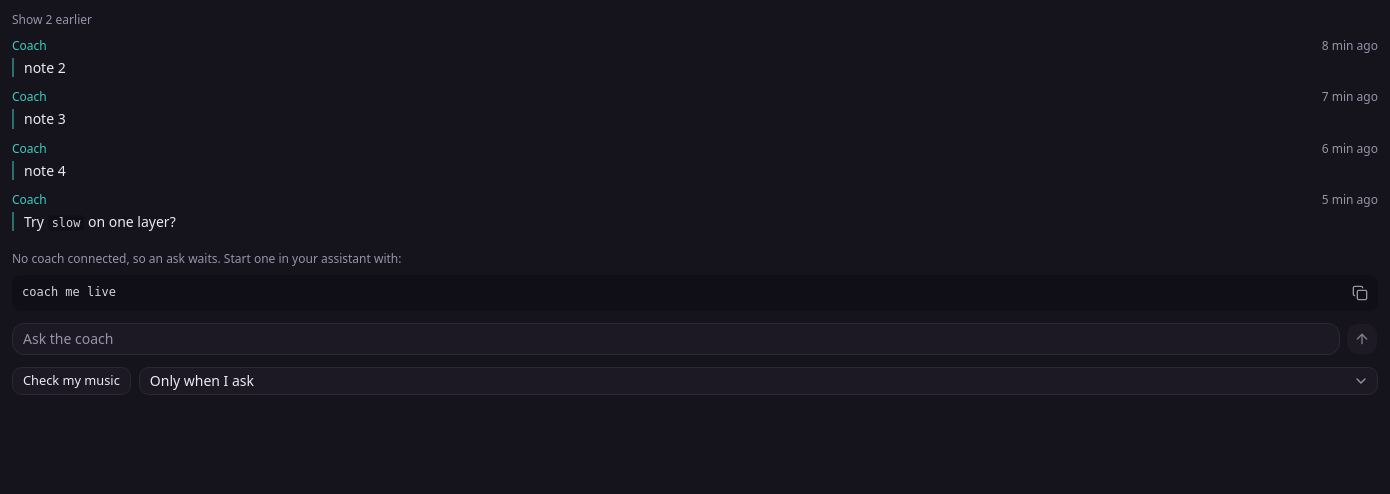
Test: CoachSection › shows the newest four, then the rest on request, and inline code as code
This screenshot has width=1390, height=494.
Expected: the number of list items is 4, [12, 32, 1378, 83]; [12, 83, 1378, 135]; [12, 134, 1378, 186]; [12, 186, 1378, 237]
Click the button "Show 2 earlier": (52, 20) [12, 12, 92, 28]
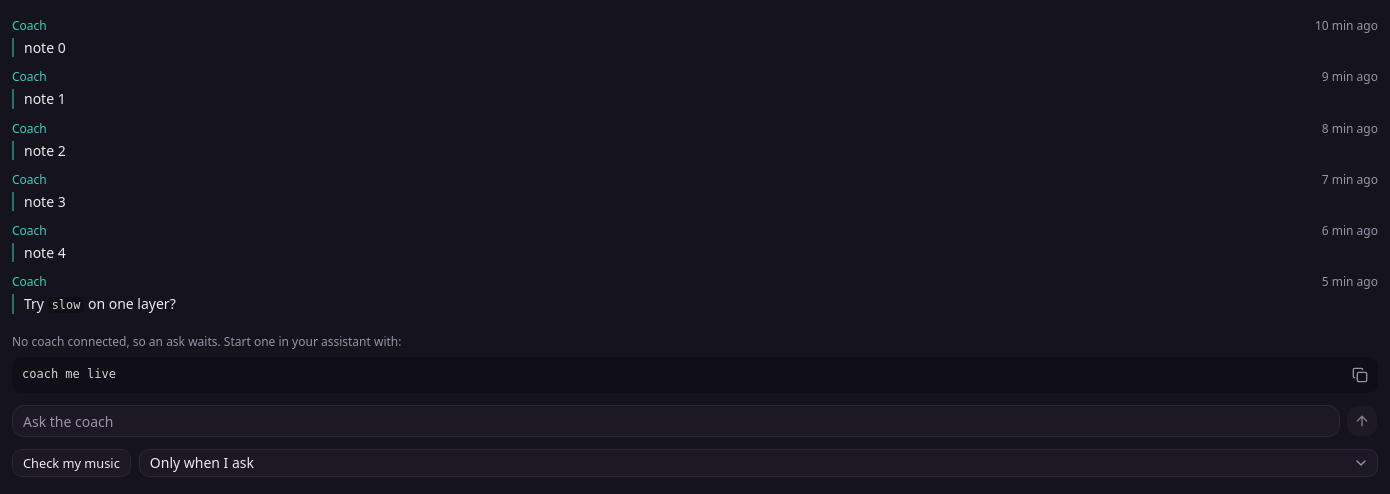
Result: the number of list items is 6 at [12, 12, 1378, 63]; [12, 63, 1378, 115]; [12, 114, 1378, 166]; [12, 166, 1378, 217]; [12, 217, 1378, 268]; [12, 268, 1378, 320]
